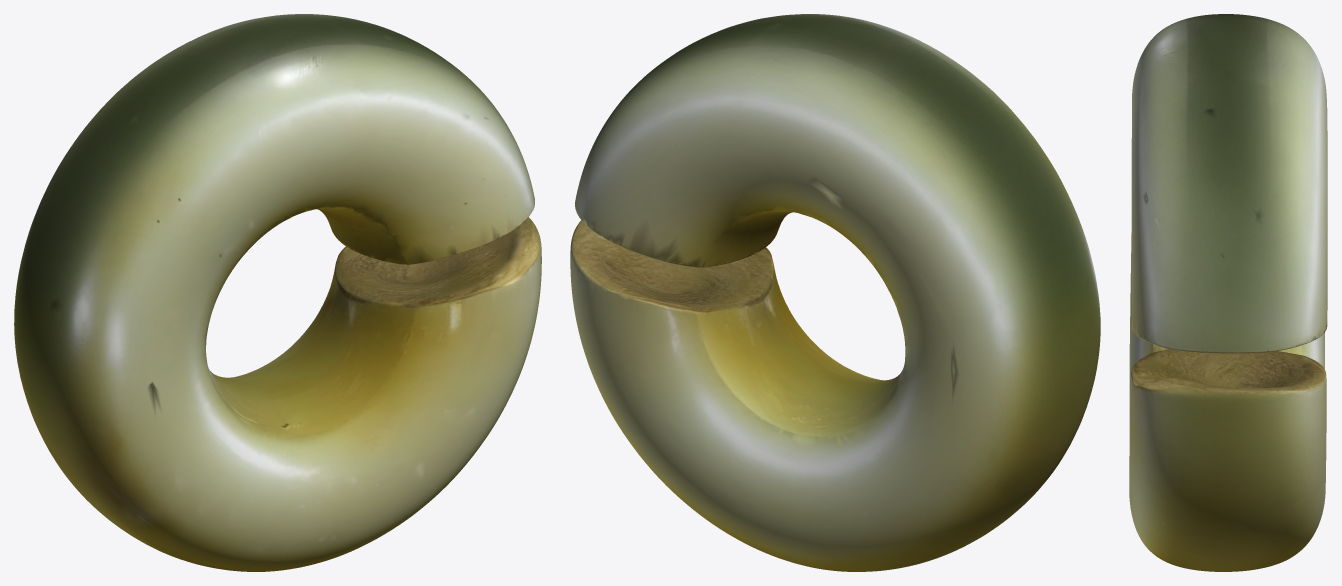
File: jade-jue-detail.glb
The picture shows the model from 3 angles, left to right: view 1: azimuth 30°, elevation 25°; view 2: azimuth 150°, elevation 25°; view 3: azimuth 270°, elevation 25°; orthographic projection. The views are drawn at different scales.
Parts seen in each view (by area): view 1: node_0; view 2: node_0; view 3: node_0.
Part boxes in pixels (x1,y1,x2,y2): node_0: (14,14,541,571); node_0: (570,14,1100,571); node_0: (1129,14,1327,571).
Size of the model in its own units: 1.19 by 1.2 by 0.4238.
1 material, 1 textured.
